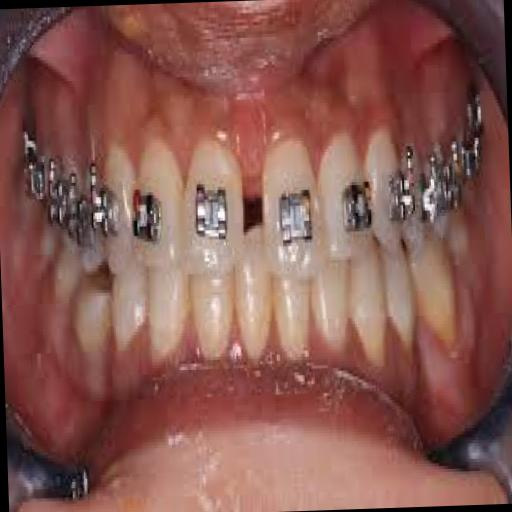correct_brace: (272, 182, 316, 250), (190, 178, 232, 248), (131, 180, 166, 252), (336, 178, 374, 238)
incorrect_brace: (128, 134, 186, 278), (316, 128, 372, 270)
